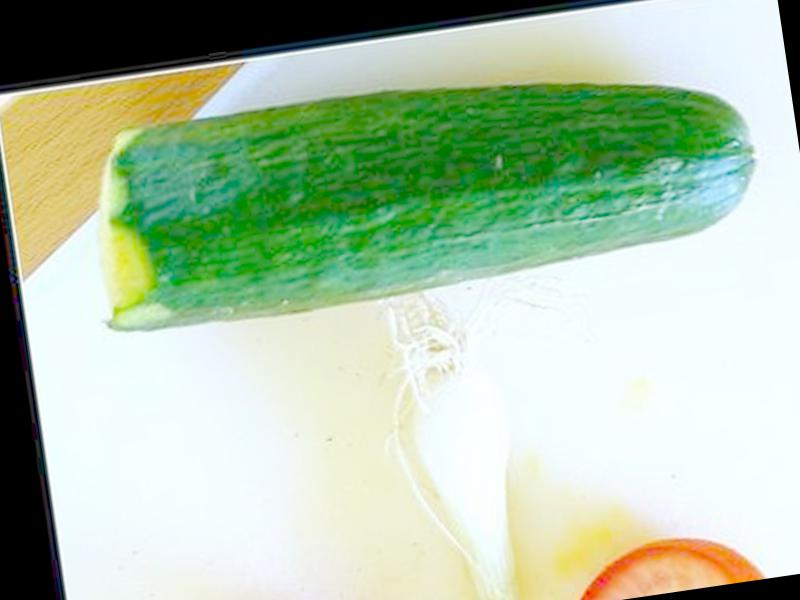Cucumber: (78, 36, 771, 337)
